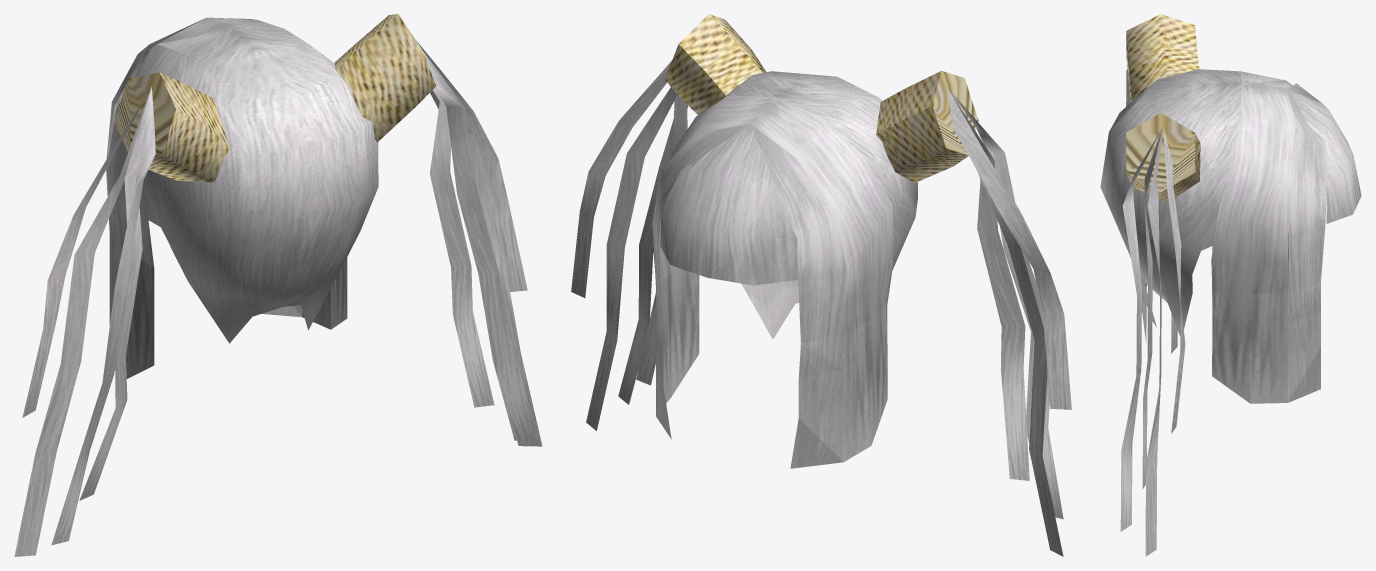
File: Mage female hair 41.glb
The picture shows the model from 3 angles, left to right: view 1: azimuth 30°, elevation 25°; view 2: azimuth 150°, elevation 25°; view 3: azimuth 270°, elevation 25°; orthographic projection. The views are drawn at different scales.
Parts seen in each view (by area): view 1: 头发06_0, 头发06_1; view 2: 头发06_0, 头发06_1; view 3: 头发06_0, 头发06_1.
Part boxes in pixels (<box>): 头发06_0: <box>14,17,542,556</box>; 头发06_1: <box>114,14,435,182</box>; 头发06_0: <box>571,61,1071,556</box>; 头发06_1: <box>665,14,978,183</box>; 头发06_0: <box>1100,69,1361,556</box>; 头发06_1: <box>1126,14,1200,202</box>.
Bounding box in the file's own units: 0.3914 × 0.3368 × 0.2052.
2 materials, 2 textured.
